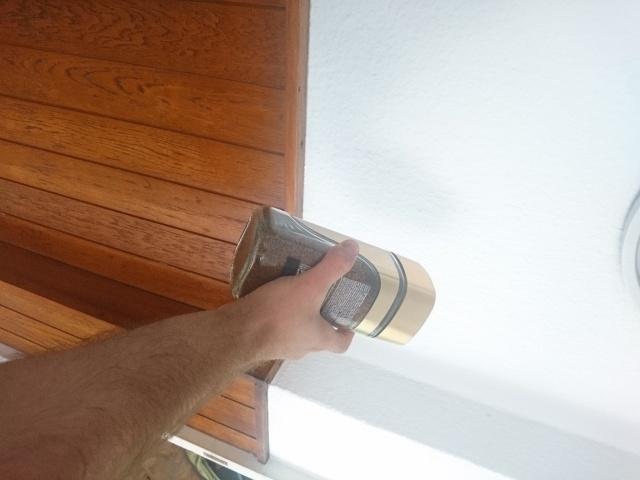Nescafe Gold 225g: (225, 202, 439, 349)
